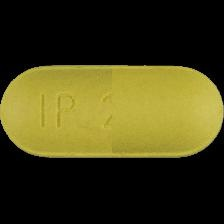33261-202: (0, 0, 224, 224)
